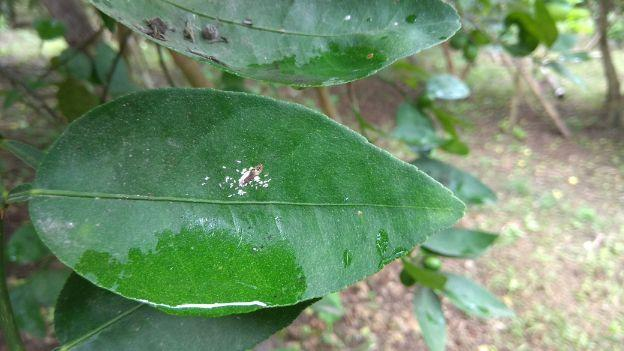Myzus persicae: (237, 164, 270, 195), (239, 164, 262, 185), (224, 177, 233, 185)
